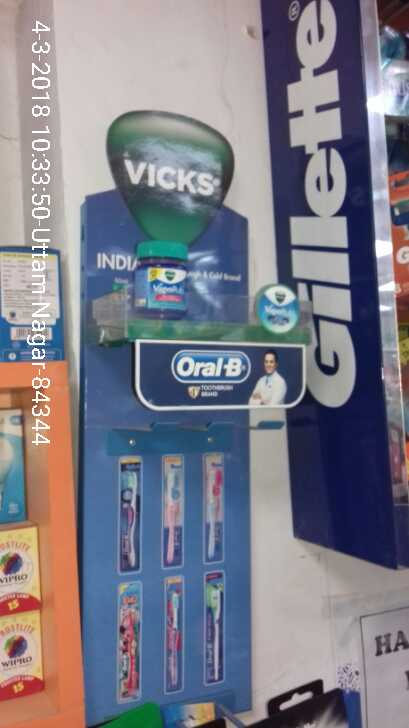vicks: (131, 242, 195, 319)
